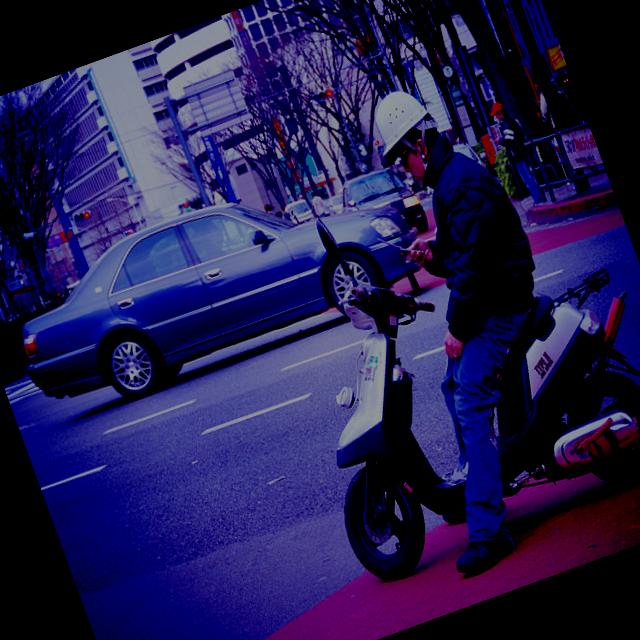Vehicle: (244, 127, 640, 591), (0, 139, 436, 431), (330, 157, 432, 256), (284, 196, 316, 226)
